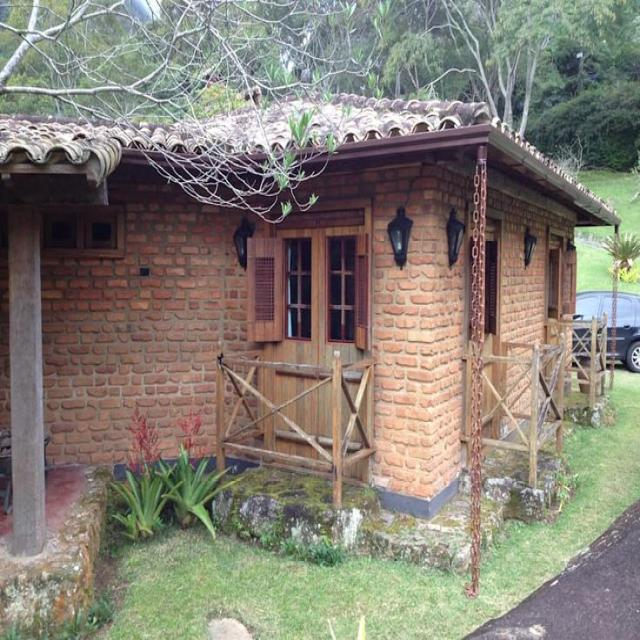Fachada: (0, 85, 621, 515)
